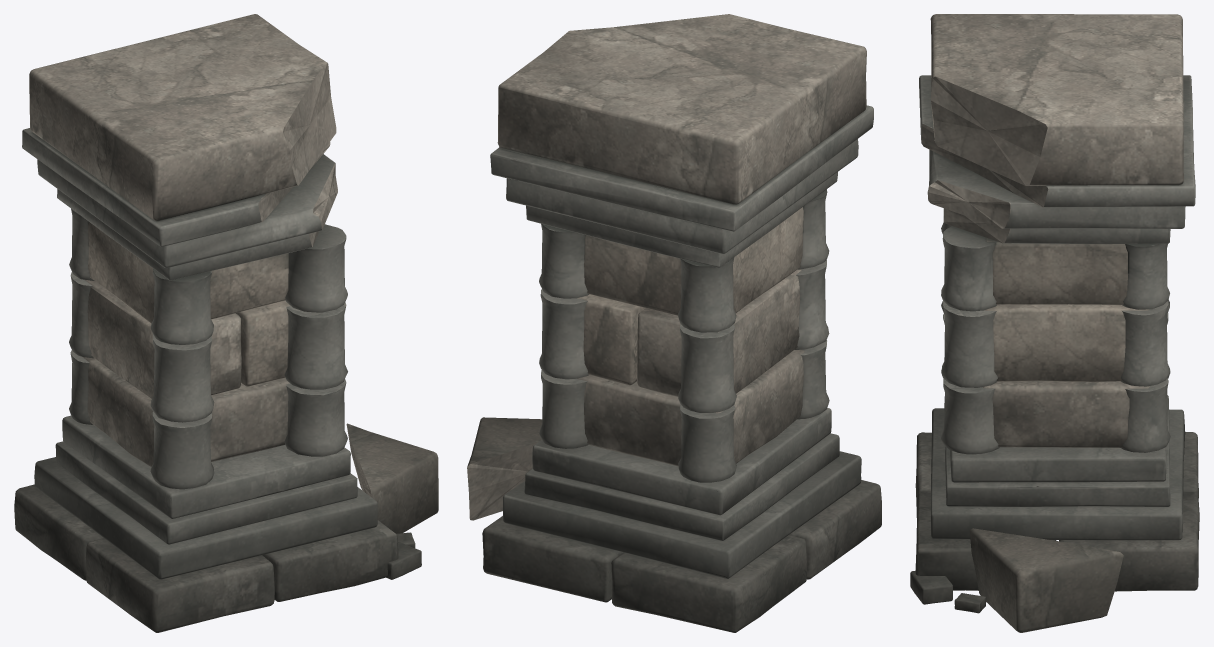
Rendered from masonry-post.glb.
The picture shows the model from 3 angles, left to right: view 1: azimuth 30°, elevation 25°; view 2: azimuth 150°, elevation 25°; view 3: azimuth 270°, elevation 25°; orthographic projection. The views are drawn at different scales.
Visible parts, largest first — view 1: WornPier_Review.009; view 2: WornPier_Review.009; view 3: WornPier_Review.009.
Boxes of the visible parts, box(x1,y1,x2,y2) form: WornPier_Review.009: box(14, 14, 438, 632); WornPier_Review.009: box(467, 14, 881, 632); WornPier_Review.009: box(910, 14, 1199, 632).
Size of the model in its own units: 1.69 by 2.25 by 1.26.
Materials: 1 (1 with a texture image).
